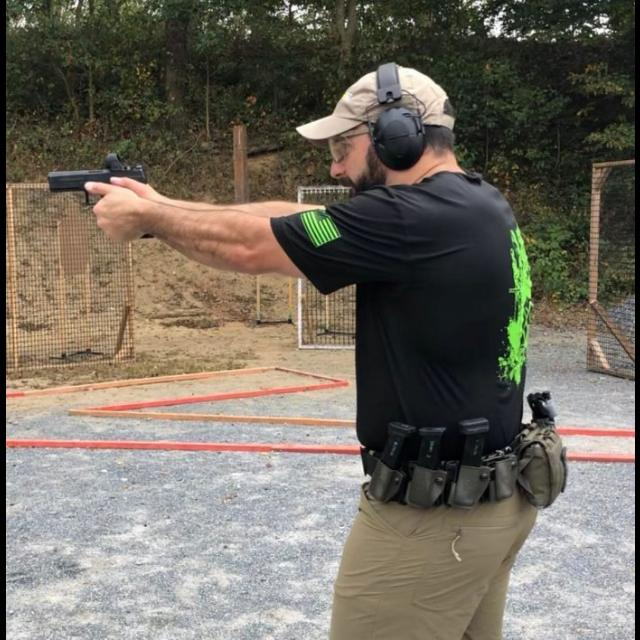handgun: (40, 152, 150, 208)
